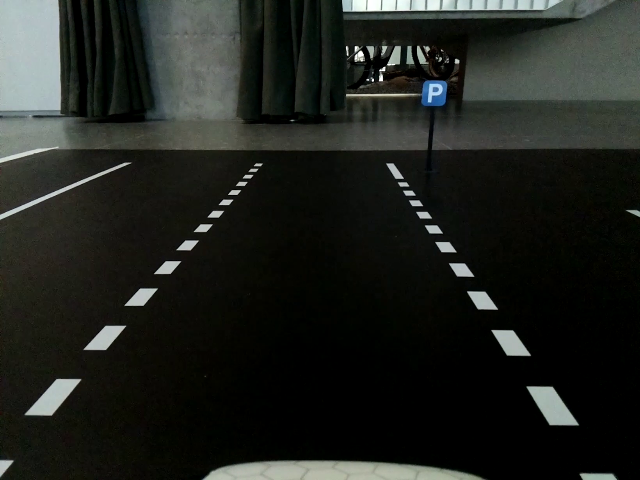park: (421, 80, 447, 105)
